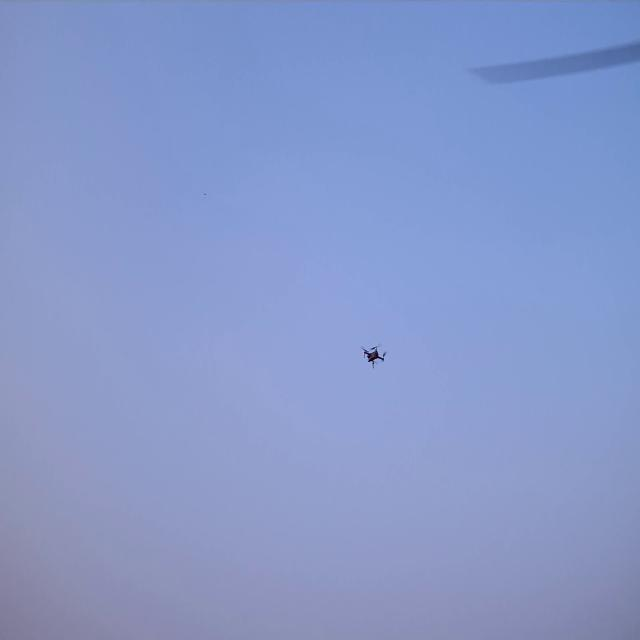UAV: (364, 347, 384, 368)
